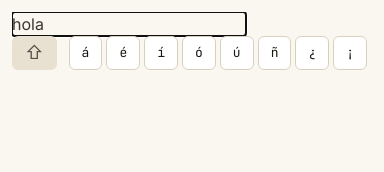
AccentPicker › inserts at cursor position when cursor is mid-string
What coordinates should you click on to do the following:
click the button named "insert é"
I would click on:
 (123, 53)
Its box is x1=106 y1=36 x2=140 y2=70.
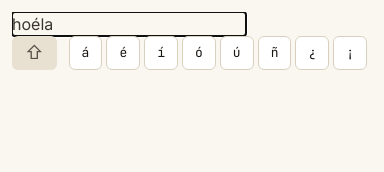
Now the field with test id "target" holds "hoéla", box x1=12 y1=12 x2=246 y2=36
